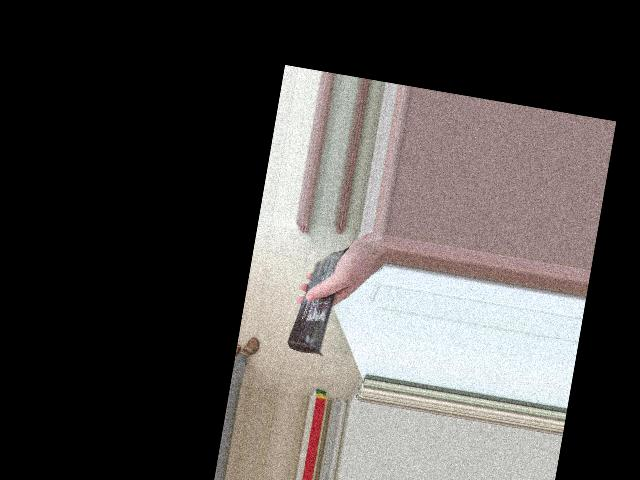chocolate: (286, 234, 349, 357)
